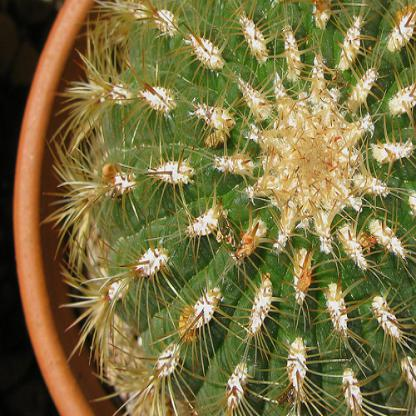pottedplant: (10, 0, 415, 415)
